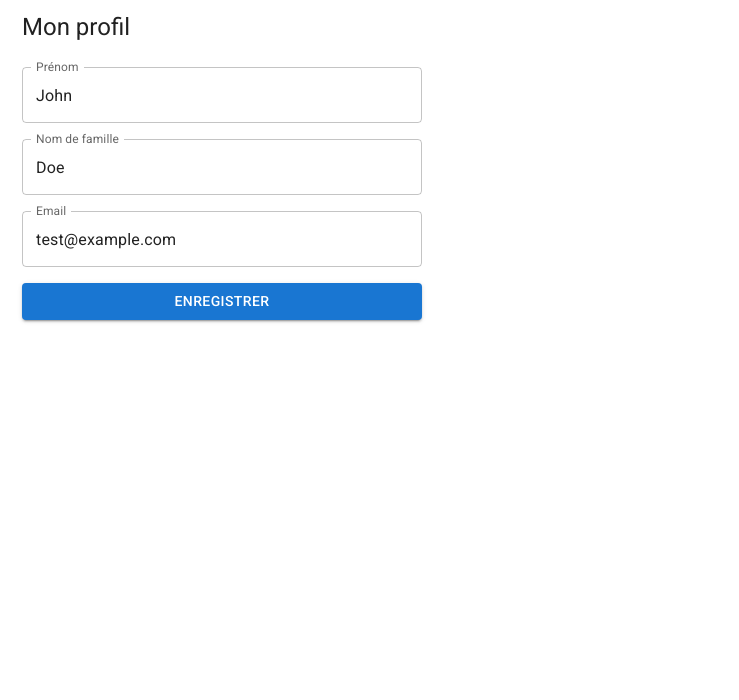
Test: UserProfile › devrait fermer le snackbar quand on clique sur le bouton de fermeture
The image size is (739, 700).
Expected: the field labelled "Prénom" is shown, [22,67,422,123]
Click the button "Enregistrer". click: (222, 301)
box: [22,283,422,320]
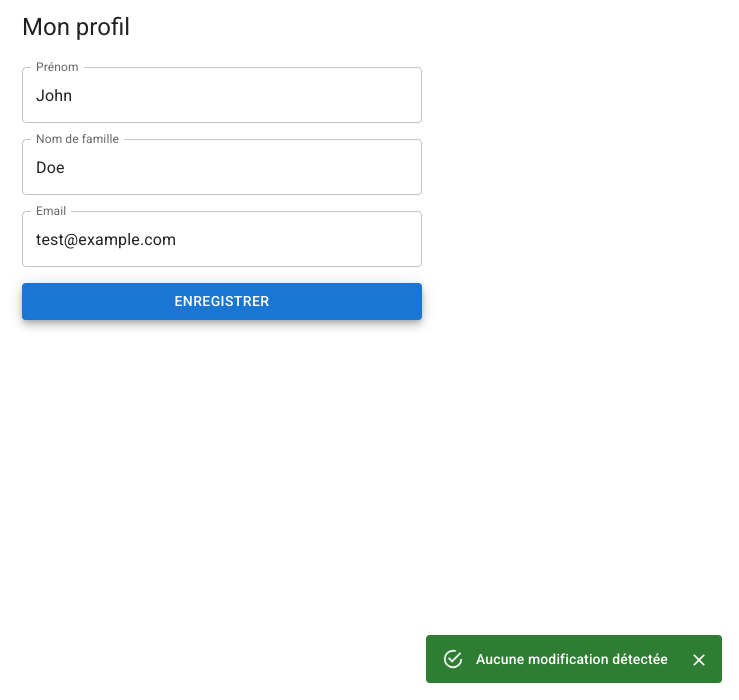
Result: the text "Aucune modification détectée" is shown at [476,651,668,667]
Click the button named "close". click: (699, 660)
box: [684,645,714,675]
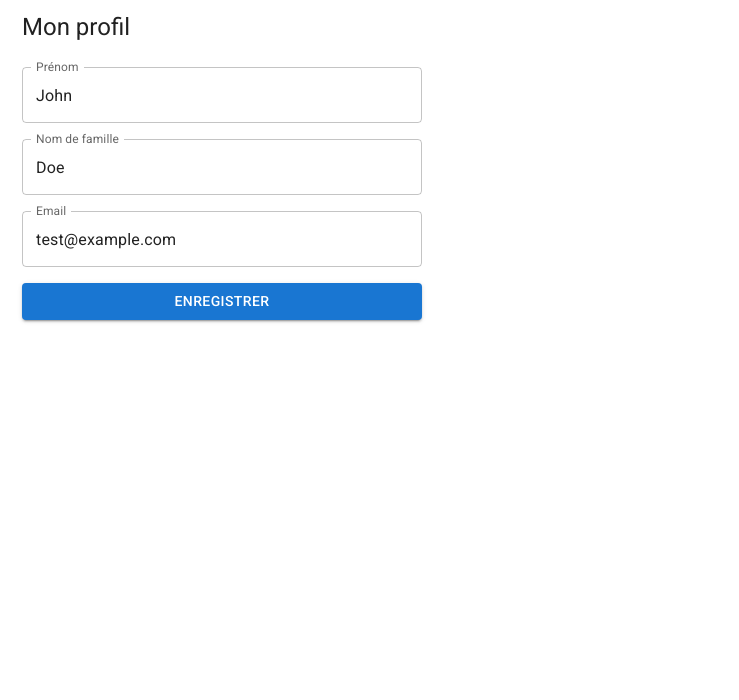
Result: the text "Aucune modification détectée" is gone
